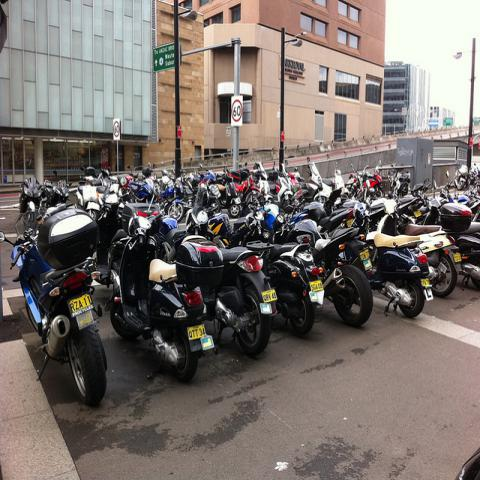motorcycle: (8, 32, 480, 358), (100, 193, 228, 382), (0, 204, 110, 406), (208, 213, 325, 338), (184, 202, 276, 357), (345, 177, 433, 320), (274, 202, 374, 327), (392, 199, 472, 300), (409, 201, 479, 241), (307, 157, 345, 203), (208, 174, 241, 216), (19, 176, 42, 232), (160, 170, 184, 222), (52, 170, 79, 209)
